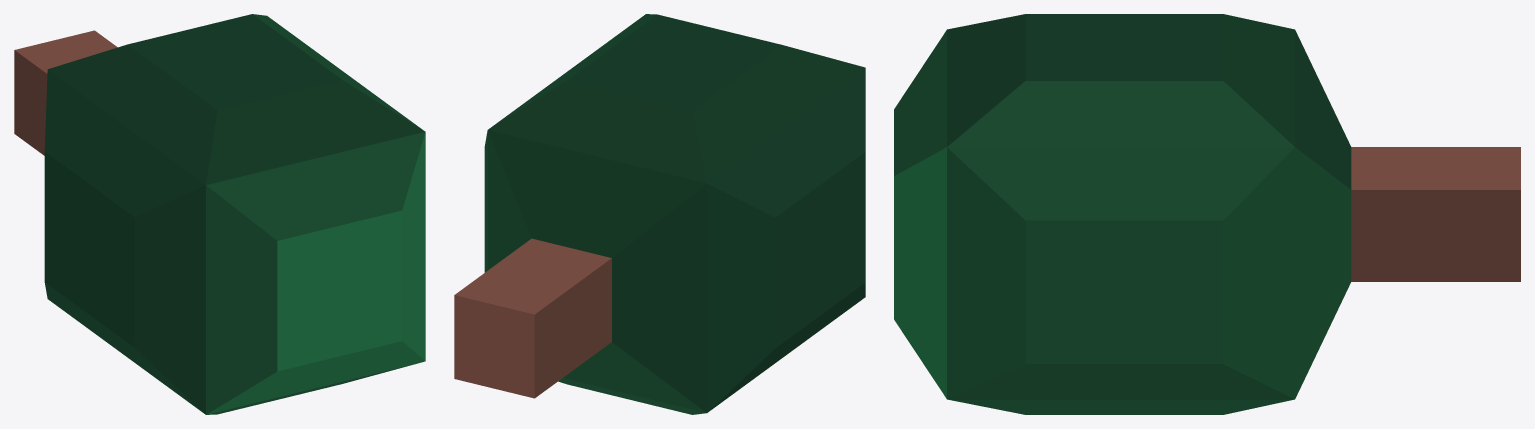
File: step_0.glb
3 views of the same model, side by side, from view 1: azimuth 30°, elevation 25°; view 2: azimuth 150°, elevation 25°; view 3: azimuth 270°, elevation 25° (orthographic). The views are drawn at different scales.
Parts seen in each view (by area): view 1: wood.small.0; view 2: wood.small.0; view 3: wood.small.0.
Boxes of the visible parts, box(x1,y1,x2,y2) form: wood.small.0: box(14, 14, 425, 414); wood.small.0: box(454, 14, 865, 414); wood.small.0: box(894, 14, 1520, 414).
Size of the model in its own units: 0.6367 by 0.6367 by 1.08.
